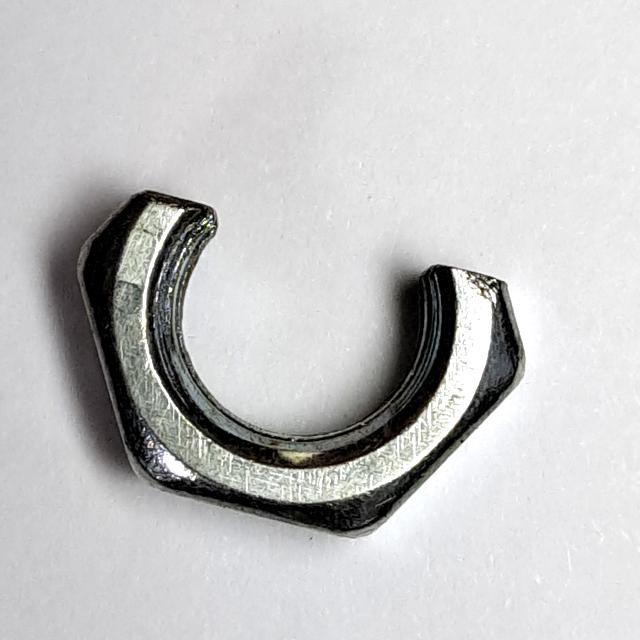Fracture: (62, 171, 539, 556)
